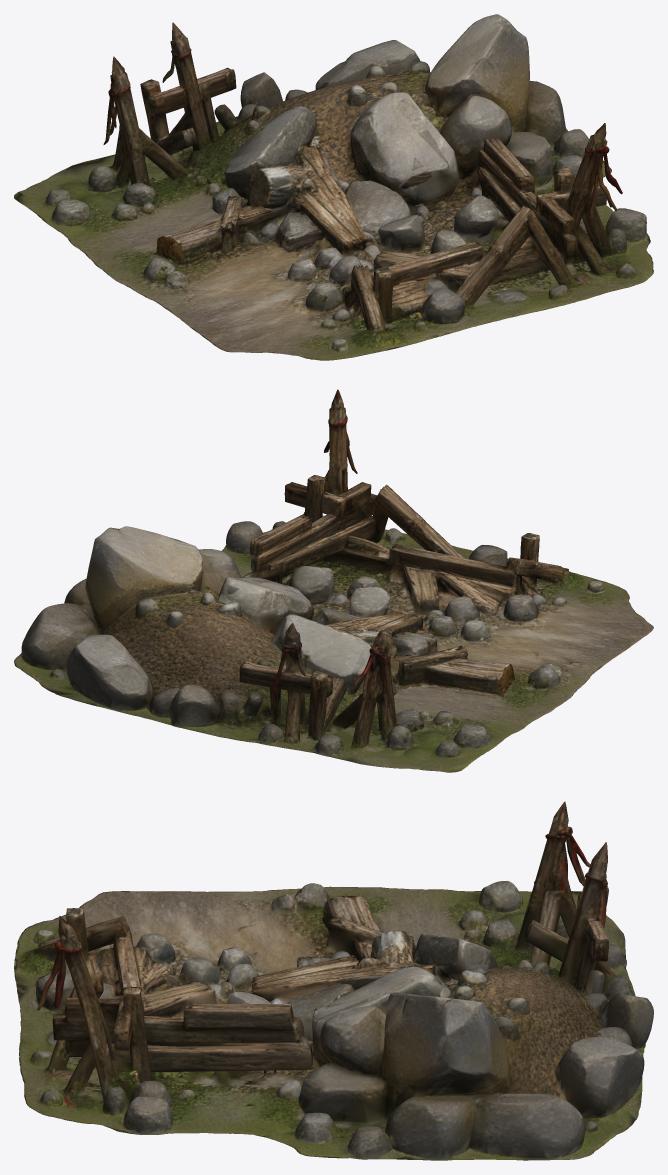
Rendered from RoadObstacle.glb.
3 renders of one model, top to bottom at view 1: azimuth 30°, elevation 25°; view 2: azimuth 150°, elevation 25°; view 3: azimuth 270°, elevation 25°, orthographic. The views are drawn at different scales.
Parts seen in each view (by area): view 1: node_0; view 2: node_0; view 3: node_0.
Boxes of the visible parts, box(x1,y1,x2,y2) form: node_0: box(14, 14, 653, 360); node_0: box(14, 389, 653, 772); node_0: box(14, 801, 653, 1160).
Size of the model in its own units: 0.9382 by 0.2826 by 0.9239.
Materials: 1 (1 with a texture image).
